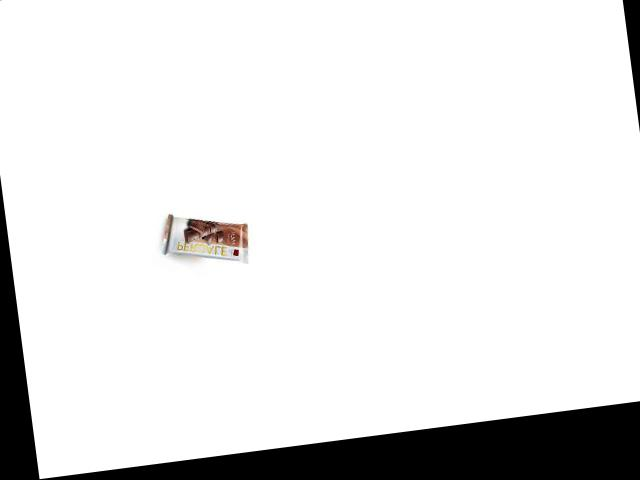chocolate: (163, 197, 252, 275)
